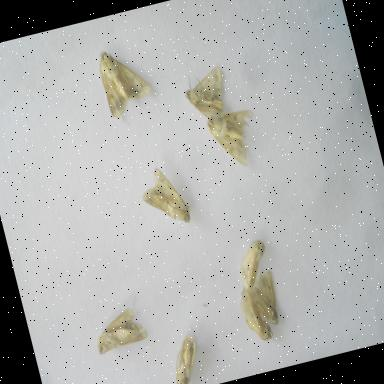abw: (89, 38, 158, 124), (132, 158, 198, 237), (202, 103, 270, 178), (176, 62, 239, 138), (84, 300, 153, 360), (231, 264, 287, 334), (225, 234, 278, 294), (156, 326, 208, 384)
